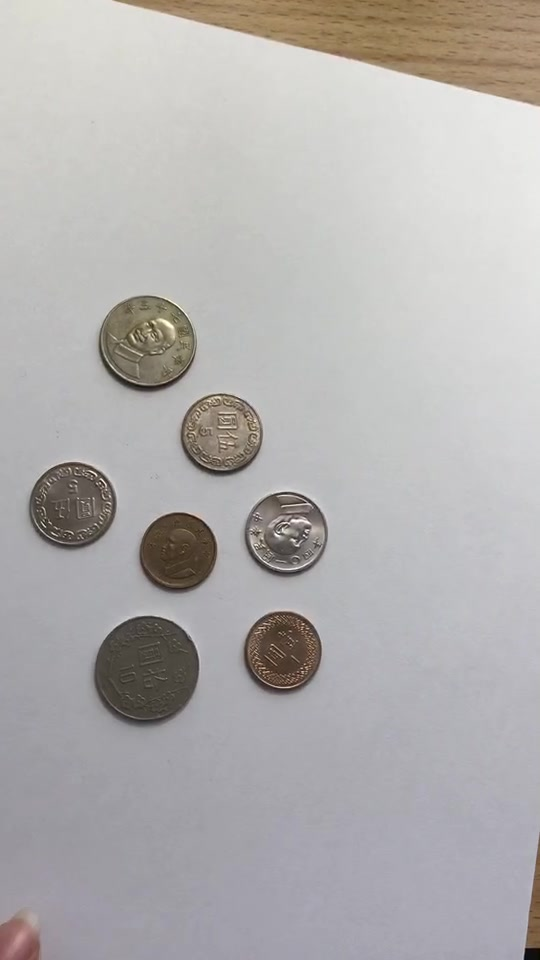1 dallar: (134, 501, 226, 601), (237, 603, 329, 703)
10 dallar: (83, 610, 204, 727), (91, 291, 213, 395)
5 dallar: (18, 458, 121, 557), (173, 382, 276, 481), (234, 483, 337, 582)
